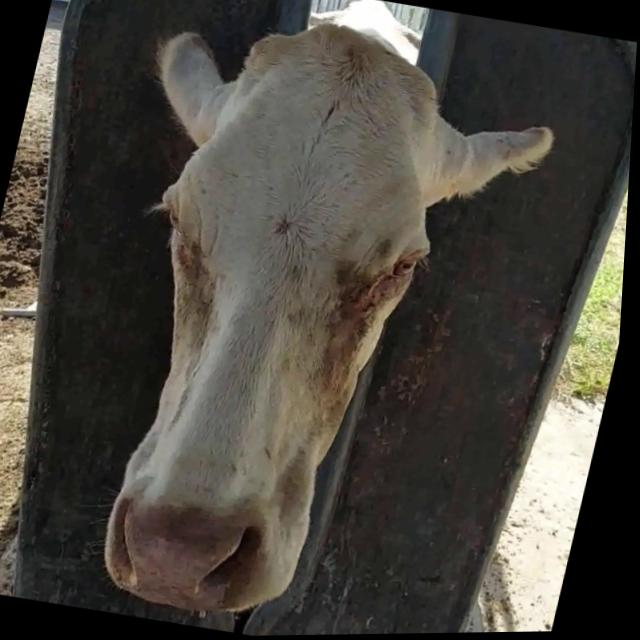cowFace: (72, 0, 480, 639)
